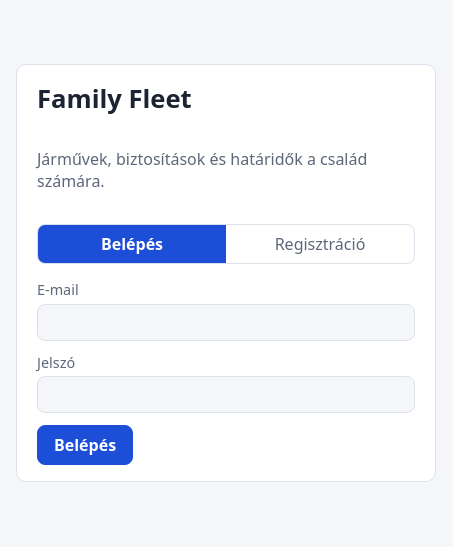
it: LoginPage › shows the backend error message on wrong password
Type "anna@example.com" into the field labelled "E-mail".
click(226, 322); type("anna@example.com")  # box [37,304,415,340]
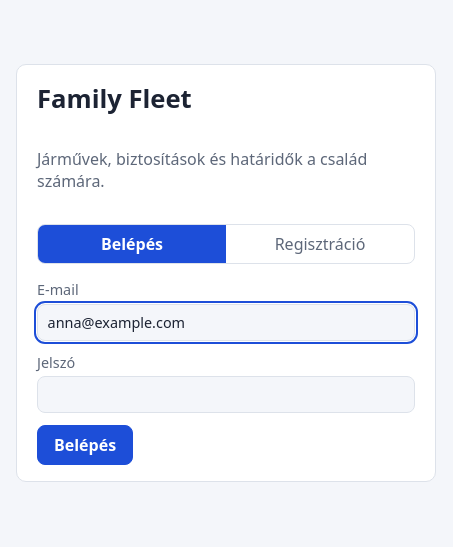
Type "rossz-jelszo" into the password field labelled "Jelszó".
click(226, 395); type("rossz-jelszo")  # box [37,376,415,413]
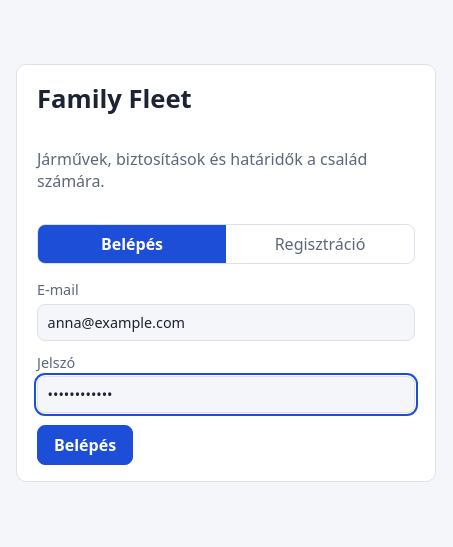
Click the button "Belépés".
click(85, 445)  # box [37,425,133,465]
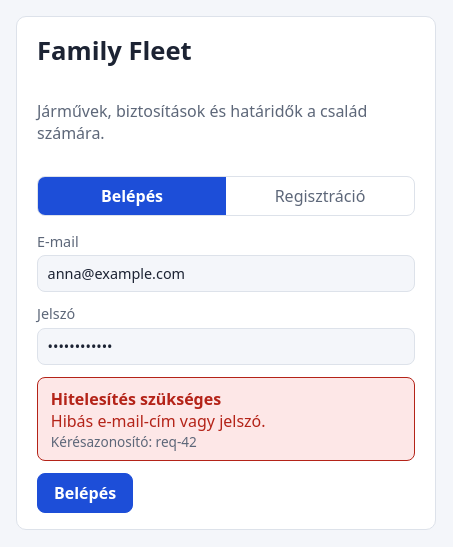
Expected: the message shows "Hibás e-mail-cím vagy jelszó.", [51,410,266,432]
Expected: the message shows "req-42", [156,432,197,451]
